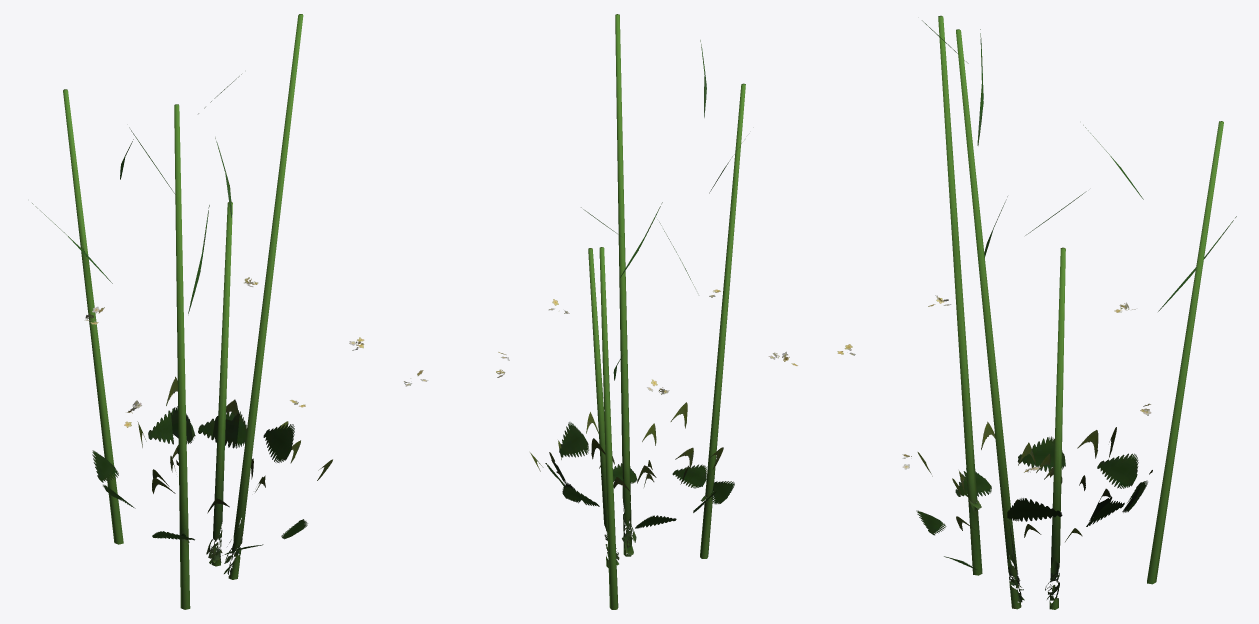
The model's file is lib_lib_shrub_under.bk.glb.
3 renders of one model, left to right at view 1: azimuth 30°, elevation 25°; view 2: azimuth 150°, elevation 25°; view 3: azimuth 270°, elevation 25°, orthographic. The views are drawn at different scales.
Parts seen in each view (by area): view 1: lo; view 2: lo; view 3: lo.
Part boxes in pixels (box(x1,y1,x2,y2)): lo: box(32, 14, 428, 609); lo: box(496, 14, 797, 609); lo: box(837, 15, 1236, 609).
Bounding box in the file's own units: 0.8299 × 1.39 × 0.8759.
1 material, 1 textured.
